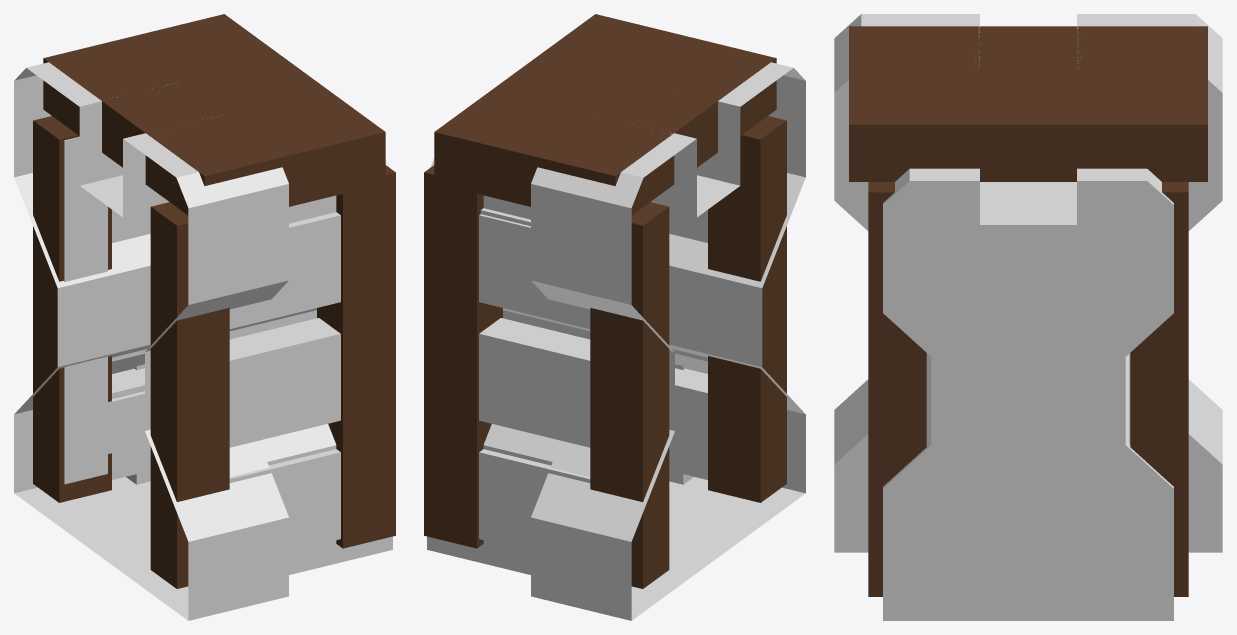
Rendered from SM_CRHex_WallStub_Tier1_Wood.fbx.
3 renders of one model, left to right at view 1: azimuth 30°, elevation 25°; view 2: azimuth 150°, elevation 25°; view 3: azimuth 270°, elevation 25°, orthographic. The views are drawn at different scales.
Parts seen in each view (by area): view 1: SM_CRHex_WallStub_Tier1_Wood_Core, SM_CRHex_WallStub_Tier1_Wood_StyleRibs, SM_CRHex_WallStub_Tier1_Wood_Accent, SM_CRHex_WallStub_Tier1_Wood_StylePanels, SM_CRHex_WallStub_Tier1_Wood_Detail; view 2: SM_CRHex_WallStub_Tier1_Wood_Core, SM_CRHex_WallStub_Tier1_Wood_StyleRibs, SM_CRHex_WallStub_Tier1_Wood_Accent, SM_CRHex_WallStub_Tier1_Wood_StylePanels; view 3: SM_CRHex_WallStub_Tier1_Wood_Core, SM_CRHex_WallStub_Tier1_Wood_Accent, SM_CRHex_WallStub_Tier1_Wood_StyleRibs.
Part boxes in pixels (x1=…): SM_CRHex_WallStub_Tier1_Wood_Core: x1=14, y1=62, x2=392, y2=620; SM_CRHex_WallStub_Tier1_Wood_StyleRibs: x1=33, y1=116, x2=395, y2=588; SM_CRHex_WallStub_Tier1_Wood_Accent: x1=43, y1=14, x2=385, y2=215; SM_CRHex_WallStub_Tier1_Wood_StylePanels: x1=112, y1=210, x2=340, y2=551; SM_CRHex_WallStub_Tier1_Wood_Detail: x1=64, y1=136, x2=149, y2=484; SM_CRHex_WallStub_Tier1_Wood_Core: x1=427, y1=62, x2=805, y2=620; SM_CRHex_WallStub_Tier1_Wood_StyleRibs: x1=424, y1=116, x2=786, y2=588; SM_CRHex_WallStub_Tier1_Wood_Accent: x1=434, y1=14, x2=776, y2=215; SM_CRHex_WallStub_Tier1_Wood_StylePanels: x1=479, y1=210, x2=707, y2=551; SM_CRHex_WallStub_Tier1_Wood_Core: x1=834, y1=14, x2=1222, y2=620; SM_CRHex_WallStub_Tier1_Wood_Accent: x1=849, y1=26, x2=1207, y2=181; SM_CRHex_WallStub_Tier1_Wood_StyleRibs: x1=868, y1=182, x2=1188, y2=596.
Bounding box in the file's own units: 0.6 × 1.1 × 0.8.
